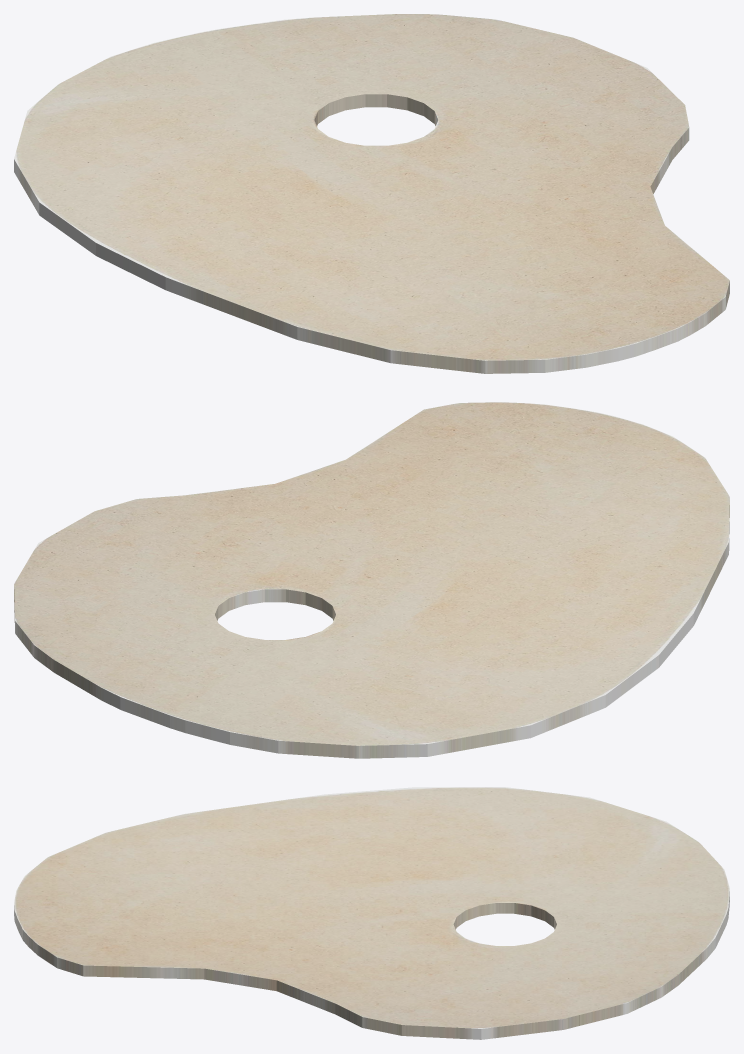
The model's file is pallet_TEXTURIZADO.fbx.
3 renders of one model, top to bottom at view 1: azimuth 30°, elevation 25°; view 2: azimuth 150°, elevation 25°; view 3: azimuth 270°, elevation 25°, orthographic. The views are drawn at different scales.
Parts seen in each view (by area): view 1: Circle.006; view 2: Circle.006; view 3: Circle.006.
Part boxes in pixels (x1,y1,x2,y2): Circle.006: [14, 14, 729, 373]; Circle.006: [14, 402, 729, 758]; Circle.006: [14, 787, 729, 1039].
Size of the model in its own units: 39.07 by 0.823 by 48.87.
1 material, 1 textured.
